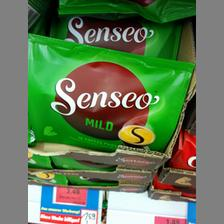Kaffee: (26, 30, 194, 154)
